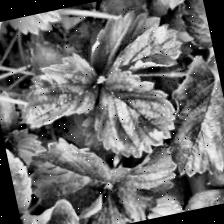Powdery Mildew Leaf: (81, 58, 184, 166), (145, 51, 224, 186), (81, 0, 186, 82), (10, 47, 108, 131), (1, 127, 43, 224), (18, 195, 82, 224)
